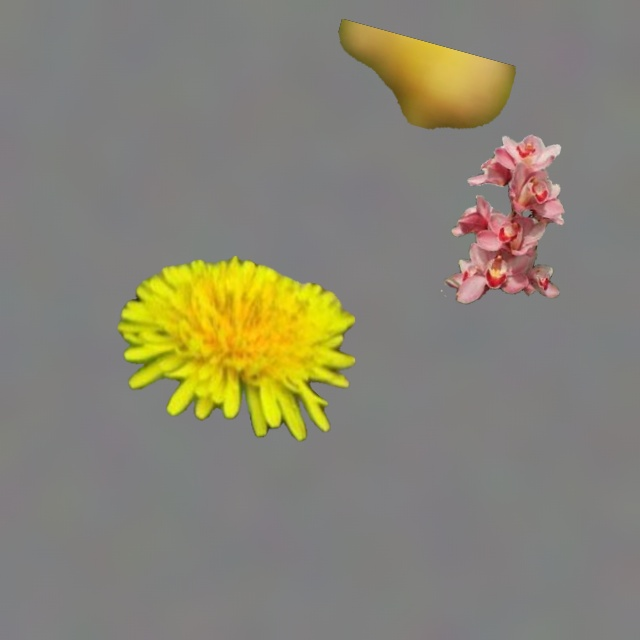dahlia: (338, 19, 515, 128)
dandelion: (117, 256, 354, 441)
orchid: (441, 134, 564, 303)
